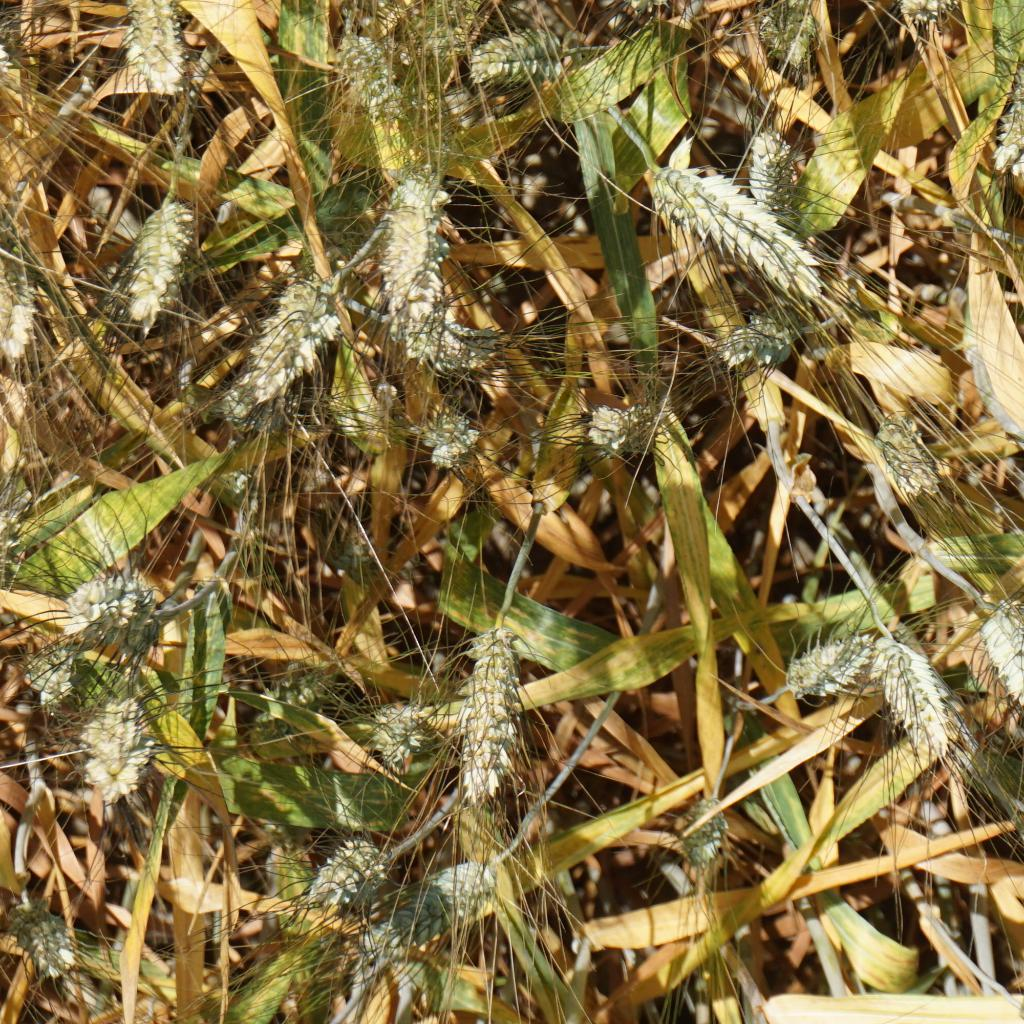0-0: (650, 173, 814, 296), (378, 854, 501, 949), (79, 691, 162, 812), (466, 614, 522, 790), (120, 188, 193, 323), (878, 631, 951, 765), (379, 307, 504, 378), (385, 175, 444, 324), (286, 208, 402, 283), (717, 295, 812, 381), (244, 268, 316, 361), (123, 0, 189, 96), (73, 566, 156, 640), (872, 419, 944, 502), (339, 17, 396, 116), (0, 233, 43, 363), (10, 907, 79, 988), (482, 29, 568, 92), (312, 834, 384, 909), (790, 630, 870, 694), (223, 353, 286, 434), (764, 0, 827, 80), (316, 523, 391, 588), (586, 392, 657, 459), (412, 400, 481, 466), (364, 696, 427, 768), (988, 594, 1024, 720), (265, 651, 333, 717), (986, 60, 1024, 174), (13, 635, 73, 702), (748, 147, 799, 214), (683, 799, 723, 870), (0, 503, 22, 596), (218, 467, 261, 510), (900, 0, 967, 23), (620, 0, 701, 19)
